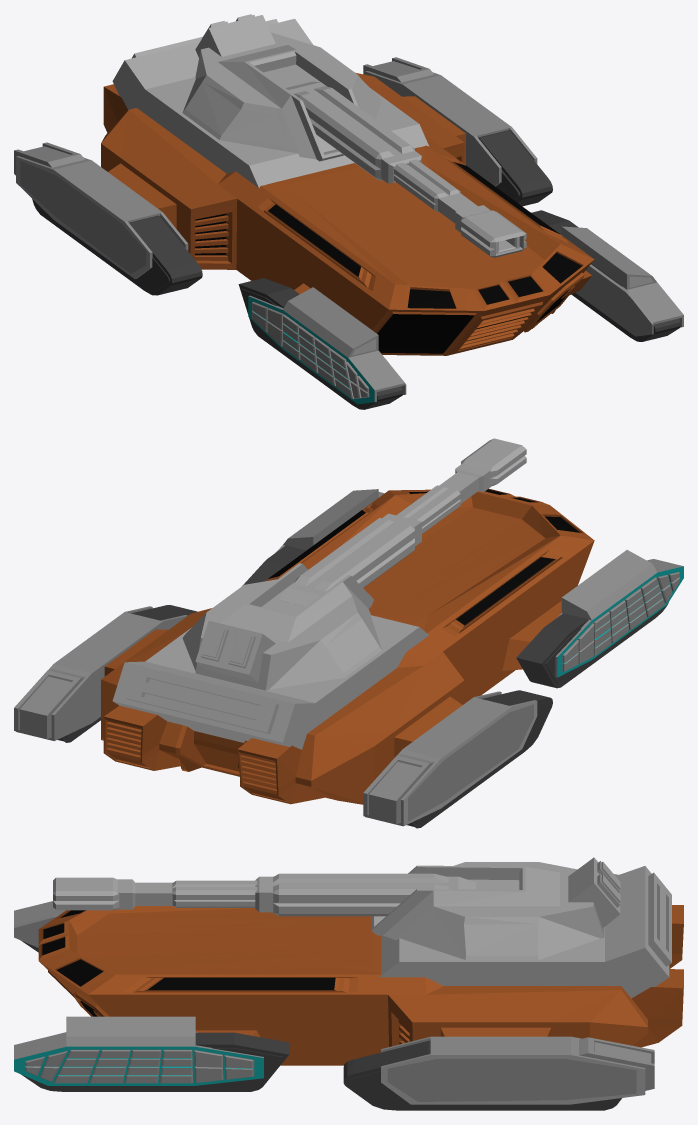
The model's file is hoverTank2.obj.
The picture shows the model from 3 angles, top to bottom: view 1: azimuth 30°, elevation 25°; view 2: azimuth 150°, elevation 25°; view 3: azimuth 270°, elevation 25°; orthographic projection.
Visible parts, largest first — view 1: Cube_Cube.002; view 2: Cube_Cube.002; view 3: Cube_Cube.002.
Boxes of the visible parts, bbox=[...] form: Cube_Cube.002: bbox=[14, 14, 683, 409]; Cube_Cube.002: bbox=[14, 438, 683, 828]; Cube_Cube.002: bbox=[14, 857, 683, 1110].
Size of the model in its own units: 11.29 by 4.33 by 17.11.
